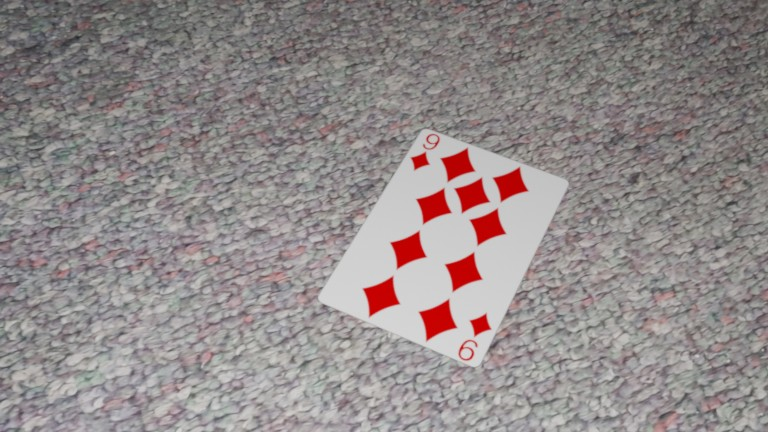9_of_diamonds: (179, 122, 200, 146), (160, 52, 180, 71)
